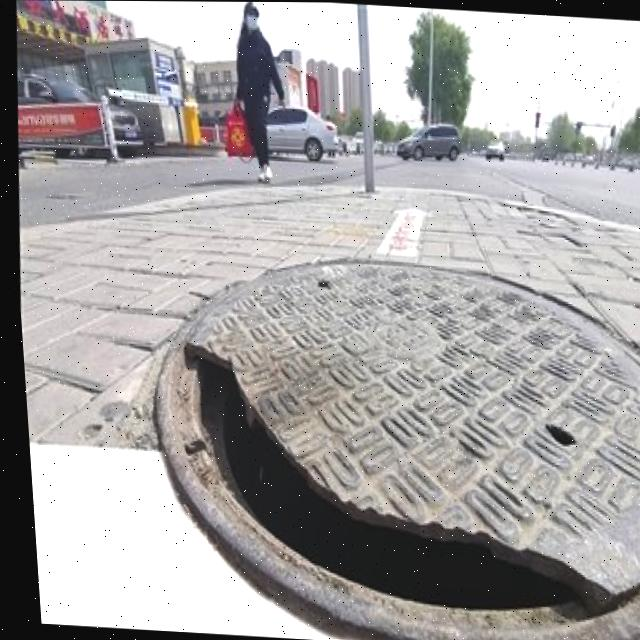manhole: (131, 232, 640, 640)
